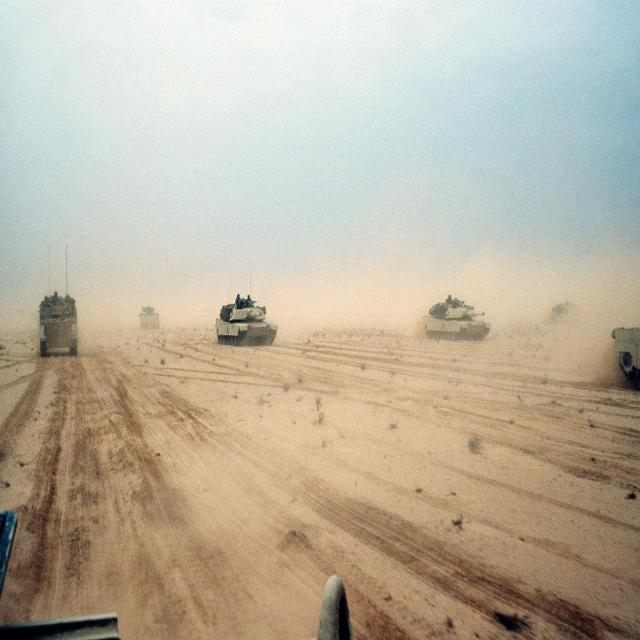Tanks: (376, 186, 528, 416), (32, 200, 110, 445), (210, 259, 278, 379), (138, 277, 170, 376)
